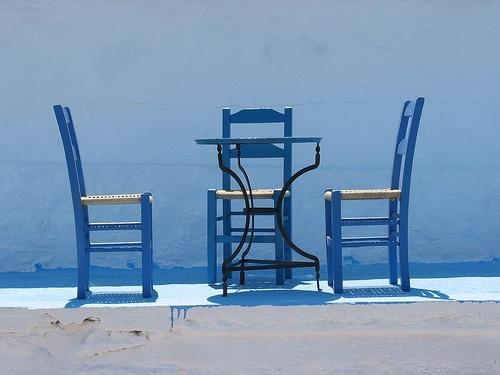chair: (53, 105, 157, 301), (325, 97, 426, 297), (208, 107, 294, 286)
